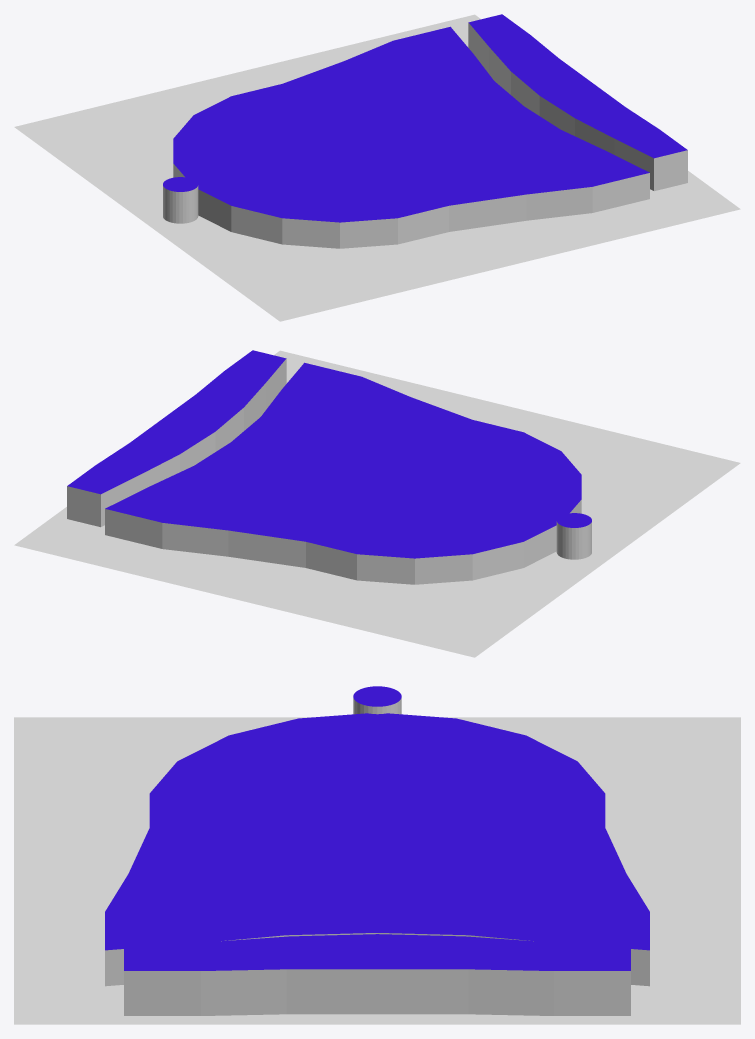
File: XnorGate.fbx
3 views of the same model, one above another, from view 1: azimuth 30°, elevation 25°; view 2: azimuth 150°, elevation 25°; view 3: azimuth 270°, elevation 25° (orthographic). The views are drawn at different scales.
Parts seen in each view (by area): view 1: XnorGate; view 2: XnorGate; view 3: XnorGate.
Part boxes in pixels (left/top/right/bottom): XnorGate: left=14, top=14, right=740, bottom=321; XnorGate: left=14, top=350, right=740, bottom=657; XnorGate: left=14, top=686, right=740, bottom=1024.
Size of the model in its own units: 200 by 13.88 by 200.
